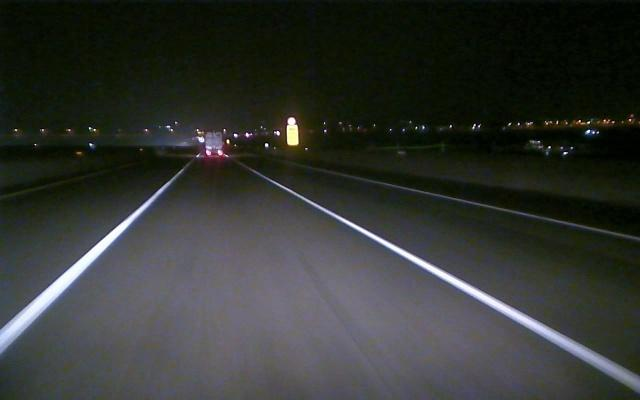lane: (267, 178, 637, 389), (3, 188, 164, 352), (387, 182, 640, 243), (0, 168, 120, 200)
